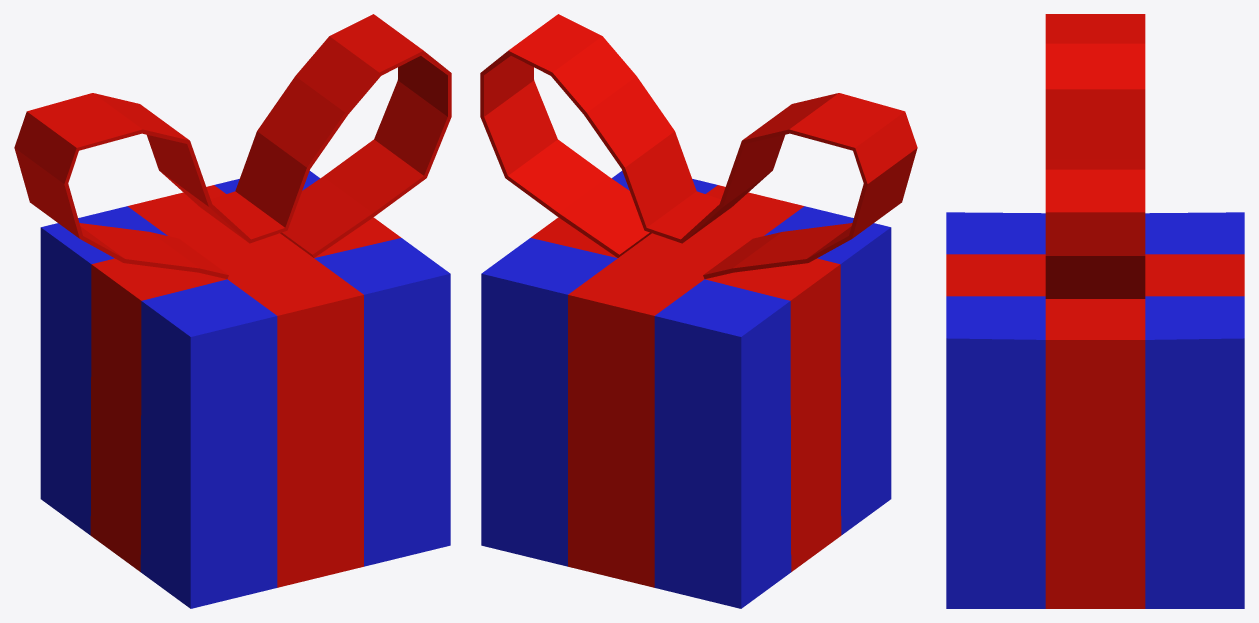
The model's file is PowerUp.fbx.
3 views of the same model, side by side, from view 1: azimuth 30°, elevation 25°; view 2: azimuth 150°, elevation 25°; view 3: azimuth 270°, elevation 25° (orthographic).
Parts seen in each view (by area): view 1: GiftBox; view 2: GiftBox; view 3: GiftBox.
Boxes of the visible parts, box(x1,y1,x2,y2) form: GiftBox: box(14, 14, 451, 608); GiftBox: box(480, 14, 917, 608); GiftBox: box(946, 14, 1244, 608).
Size of the model in its own units: 298 by 333 by 200.
